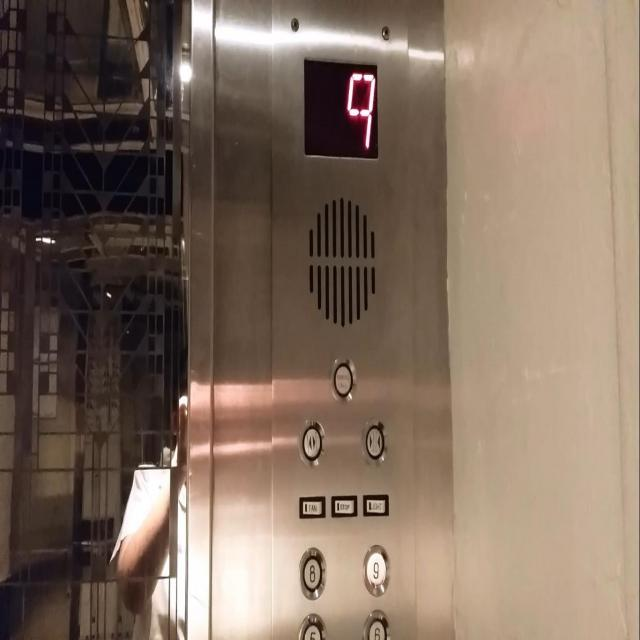8: (295, 544, 328, 602)
9: (358, 540, 392, 598)
close: (358, 414, 390, 468)
led: (300, 54, 380, 163)
open: (296, 414, 328, 469)
switch: (360, 491, 389, 520), (297, 492, 326, 520), (329, 491, 357, 520)
text_blur: (326, 352, 358, 406)
